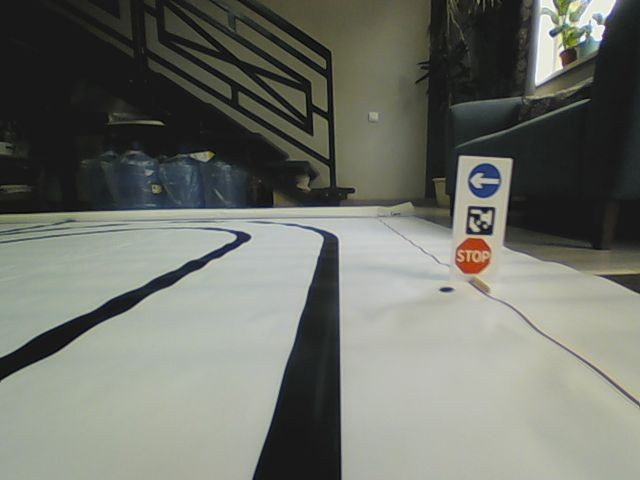Stop: (453, 235, 492, 274)
